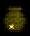pot: (0, 1, 30, 36)
